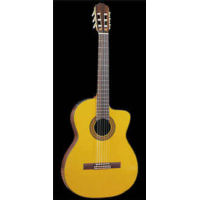guitar: (61, 2, 139, 198)
